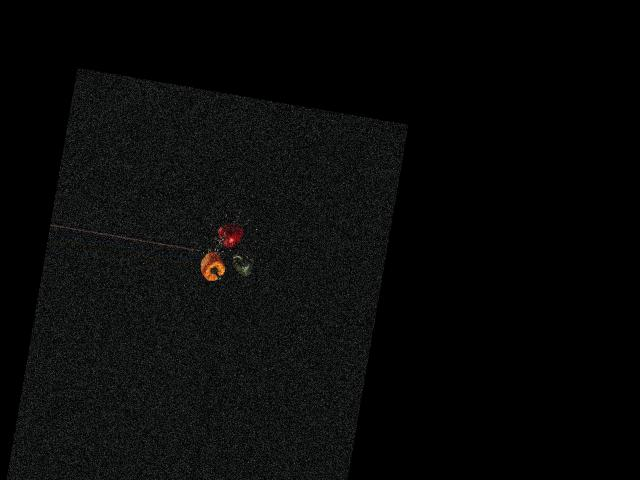bell_pepper: (208, 219, 249, 254)
